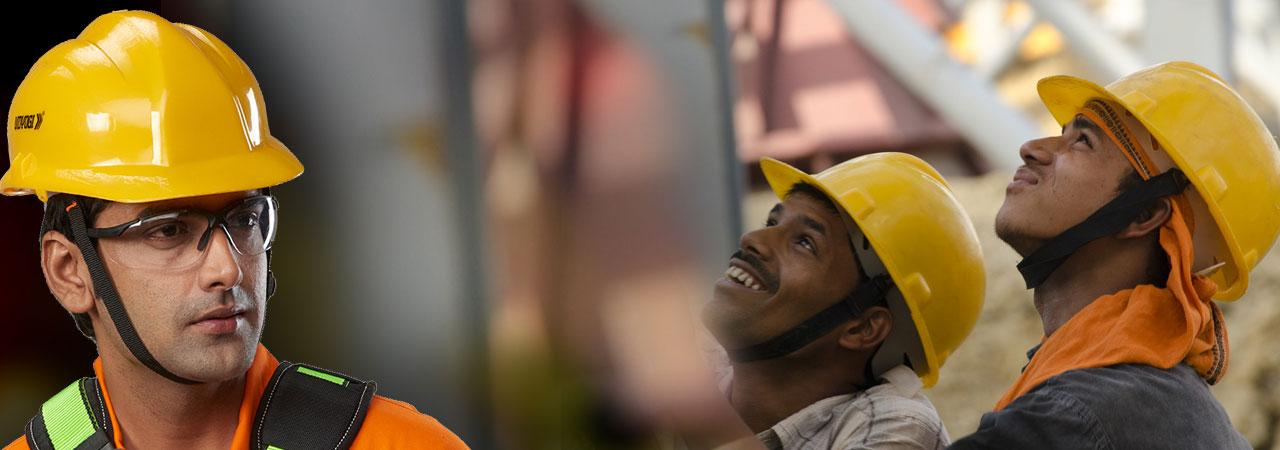helmet: (750, 130, 990, 395), (1033, 57, 1280, 294), (3, 14, 308, 202)
